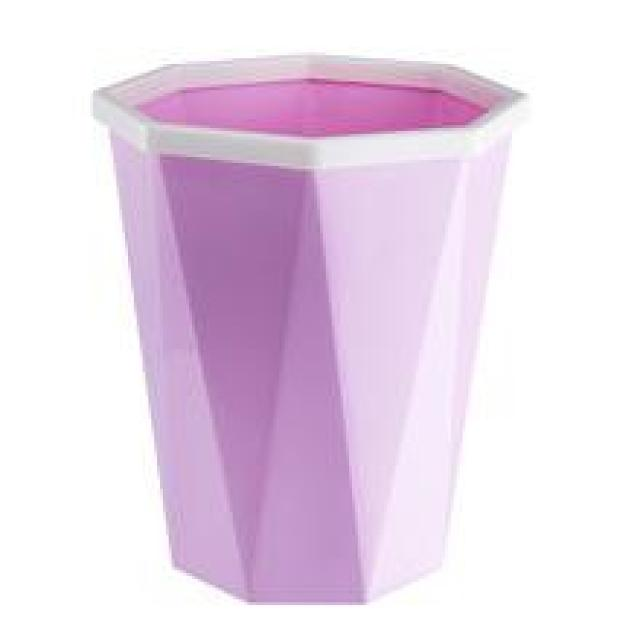dustbin: (82, 48, 534, 612)
